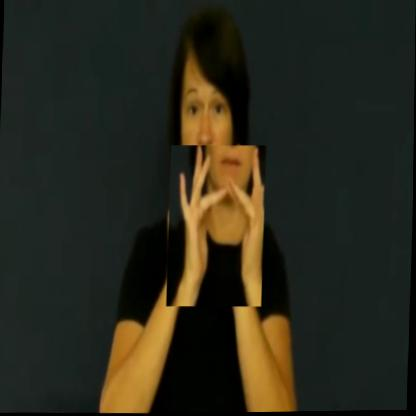Internet: (166, 144, 266, 308)
